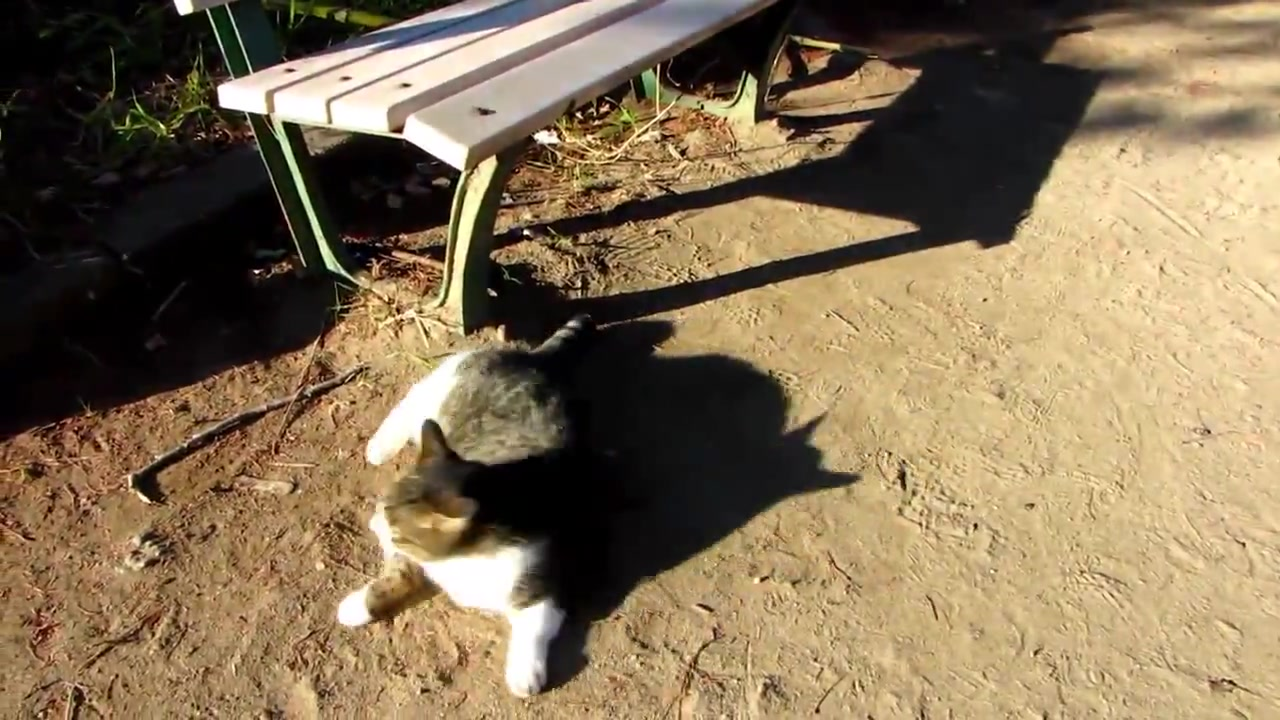cat: (336, 308, 606, 698)
